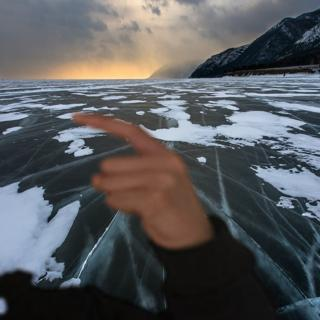WHY: (63, 106, 210, 246)
